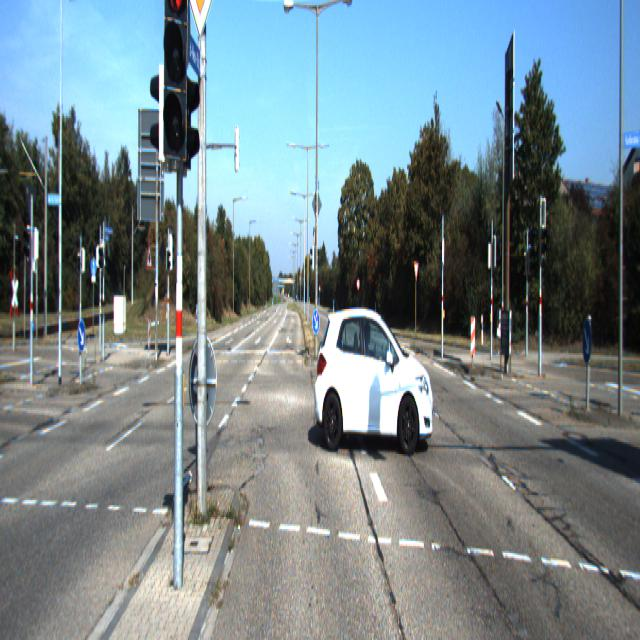Car: (312, 299, 433, 456)
